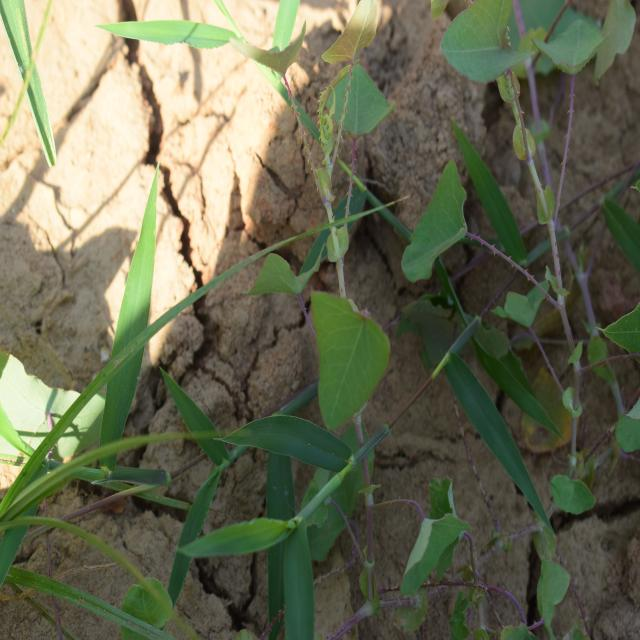Asiatic_Smartweed: (238, 0, 398, 185), (441, 1, 629, 154), (250, 240, 395, 420), (385, 158, 495, 285)
